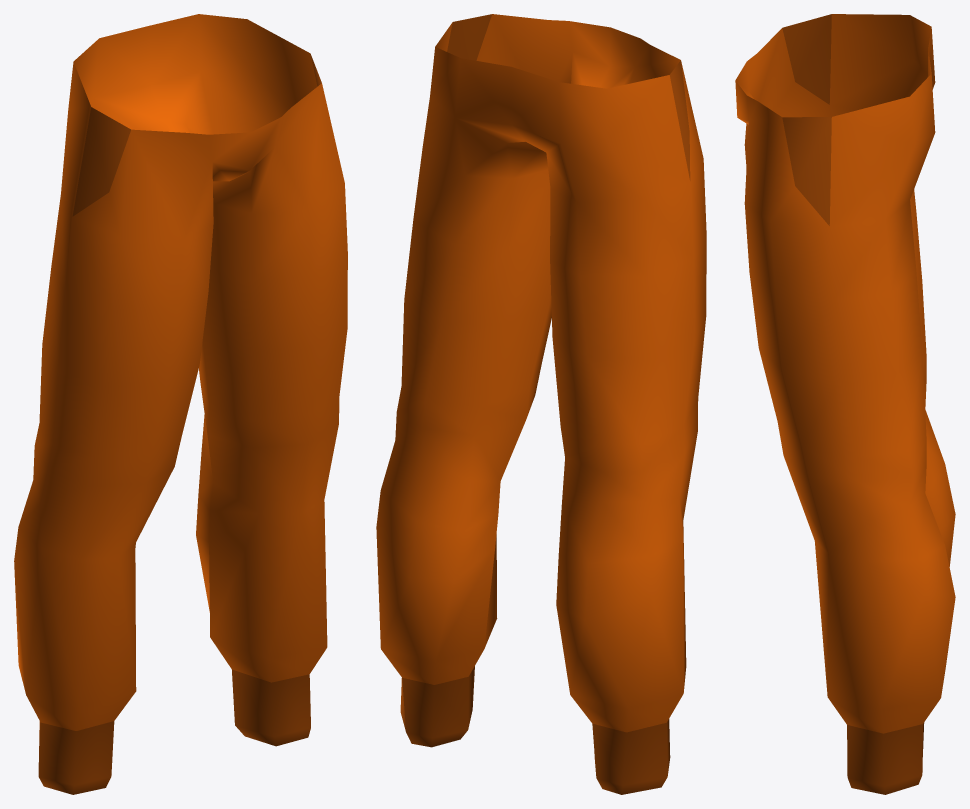
The model's file is Pants_03.fbx.
3 views of the same model, side by side, from view 1: azimuth 30°, elevation 25°; view 2: azimuth 150°, elevation 25°; view 3: azimuth 270°, elevation 25° (orthographic). The views are drawn at different scales.
Parts seen in each view (by area): view 1: Pants_03; view 2: Pants_03; view 3: Pants_03.
Part boxes in pixels (x1,y1,x2,y2): Pants_03: (14,14,347,794); Pants_03: (376,14,706,794); Pants_03: (735,14,955,794).
Bounding box in the file's own units: 44.14 × 101 × 29.3.
